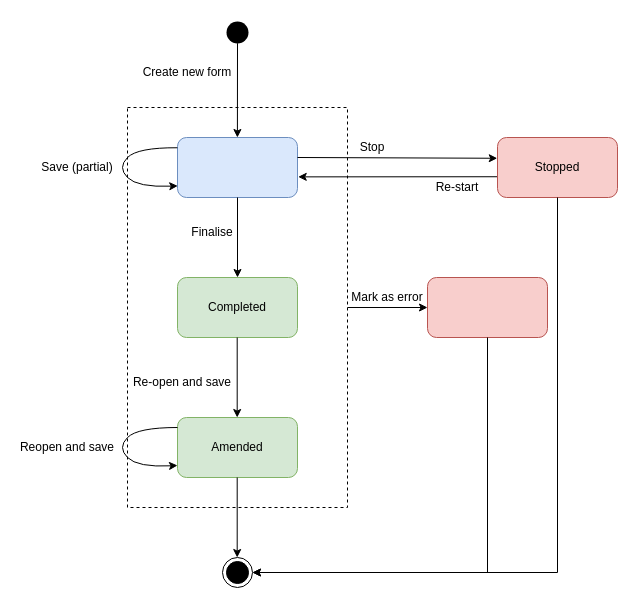
This 635x605 diagram has some shape labels left out. Each missing label, with the centre of its shape:
Entered in Error: [487,307]
In Progress: [237,167]
